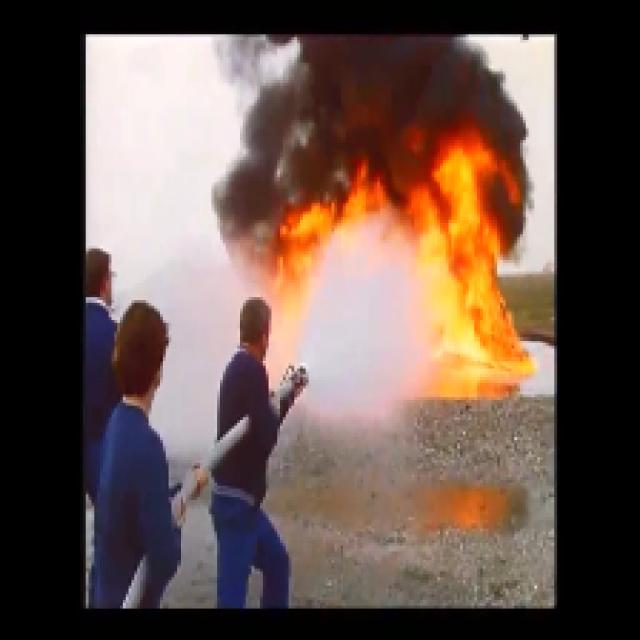fire: (446, 177, 522, 372)
smoke: (294, 32, 497, 141)
